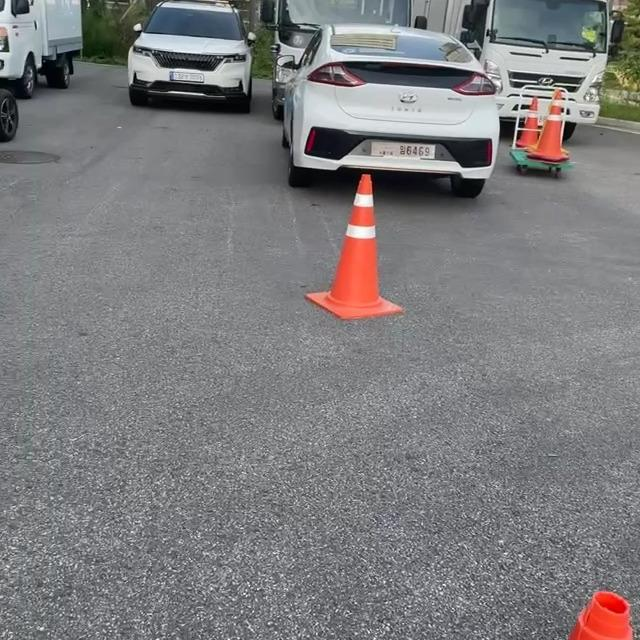fallen_object: (313, 155, 453, 357), (540, 523, 640, 640), (510, 92, 600, 199)
